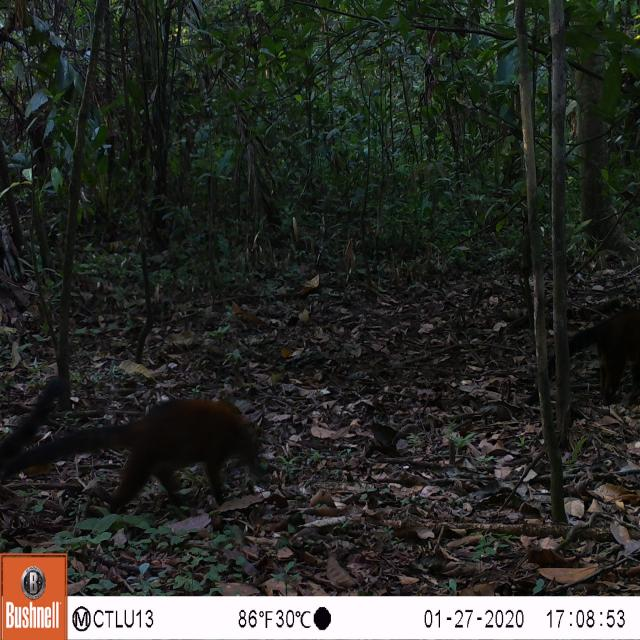South American Coati: (0, 384, 271, 519), (532, 298, 640, 417)
